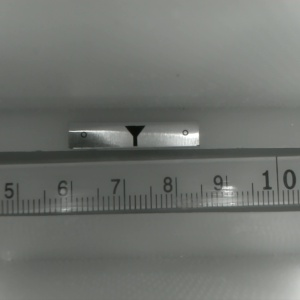0: (282, 170, 296, 190)
1: (262, 169, 271, 190)
5: (3, 183, 13, 198)
6: (56, 180, 67, 196)
7: (110, 178, 120, 194)
8: (162, 176, 171, 192)
9: (213, 175, 222, 190)
finger: (123, 126, 145, 147)
